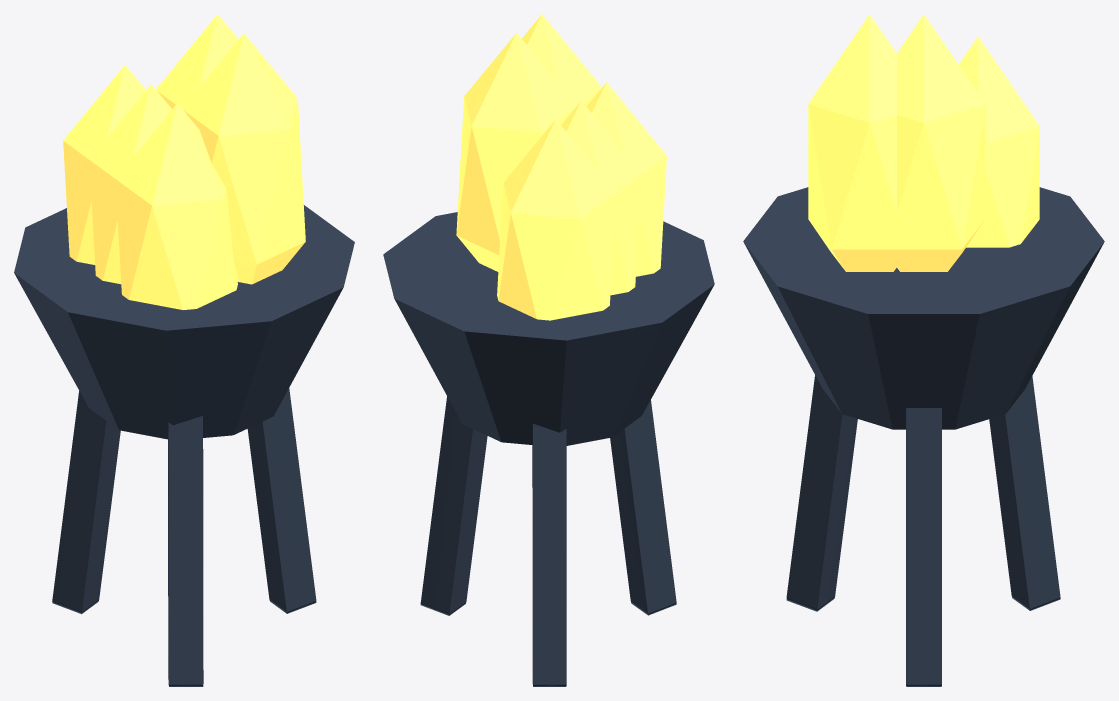
Rendered from iron_brazier.glb.
3 views of the same model, side by side, from view 1: azimuth 30°, elevation 25°; view 2: azimuth 150°, elevation 25°; view 3: azimuth 270°, elevation 25° (orthographic). The views are drawn at different scales.
Parts seen in each view (by area): view 1: Brazier bowl, Stylized fire.001, Stylized fire, Brazier leg.002, Brazier leg, Brazier leg.001, Stylized fire.004, Stylized fire.002, Stylized fire.003; view 2: Brazier bowl, Stylized fire.004, Stylized fire.003, Brazier leg.001, Brazier leg, Brazier leg.002, Stylized fire.002, Stylized fire, Stylized fire.001; view 3: Brazier bowl, Stylized fire.001, Stylized fire.003, Brazier leg, Brazier leg.002, Brazier leg.001, Stylized fire.004.
Boxes of the visible parts, left/top/right/bottom form: Brazier bowl: left=14, top=205, right=354, bottom=439; Stylized fire.001: left=182, top=33, right=305, bottom=284; Stylized fire: left=115, top=103, right=237, bottom=309; Brazier leg.002: left=168, top=416, right=203, bottom=686; Brazier leg: left=247, top=388, right=316, bottom=613; Brazier leg.001: left=52, top=391, right=120, bottom=614; Stylized fire.004: left=63, top=65, right=145, bottom=264; Stylized fire.002: left=89, top=84, right=171, bottom=284; Stylized fire.003: left=156, top=14, right=238, bottom=119; Brazier bowl: left=383, top=212, right=714, bottom=445; Stylized fire.004: left=497, top=119, right=615, bottom=320; Stylized fire.003: left=456, top=33, right=575, bottom=271; Brazier leg.001: left=532, top=423, right=566, bottom=686; Brazier leg: left=420, top=396, right=487, bottom=615; Brazier leg.002: left=610, top=400, right=676, bottom=615; Stylized fire.002: left=561, top=101, right=641, bottom=295; Stylized fire: left=586, top=82, right=666, bottom=276; Stylized fire.001: left=522, top=14, right=601, bottom=116; Brazier bowl: left=743, top=187, right=1104, bottom=429; Stylized fire.001: left=808, top=14, right=907, bottom=271; Stylized fire.003: left=887, top=14, right=985, bottom=271; Brazier leg: left=906, top=408, right=941, bottom=686; Brazier leg.002: left=786, top=375, right=857, bottom=611; Brazier leg.001: left=989, top=376, right=1060, bottom=610; Stylized fire.004: left=959, top=36, right=1039, bottom=247.
Bounding box in the file's own units: 0.9511 × 1.93 × 1.
